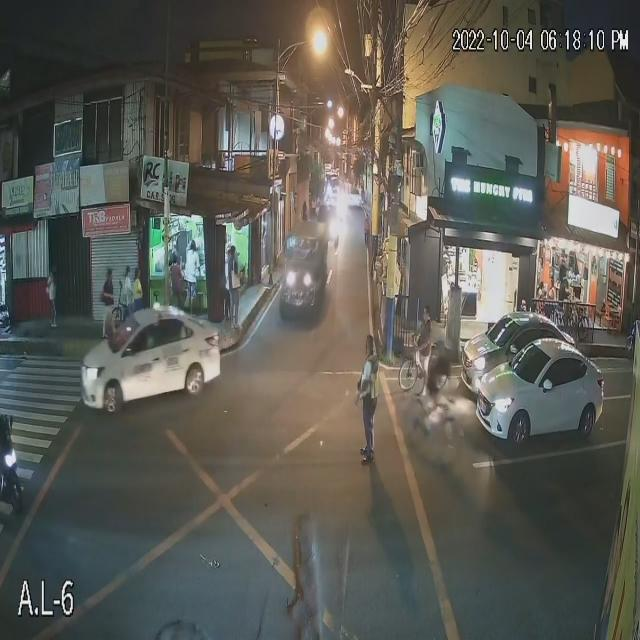motorcycle: (1, 413, 29, 517)
